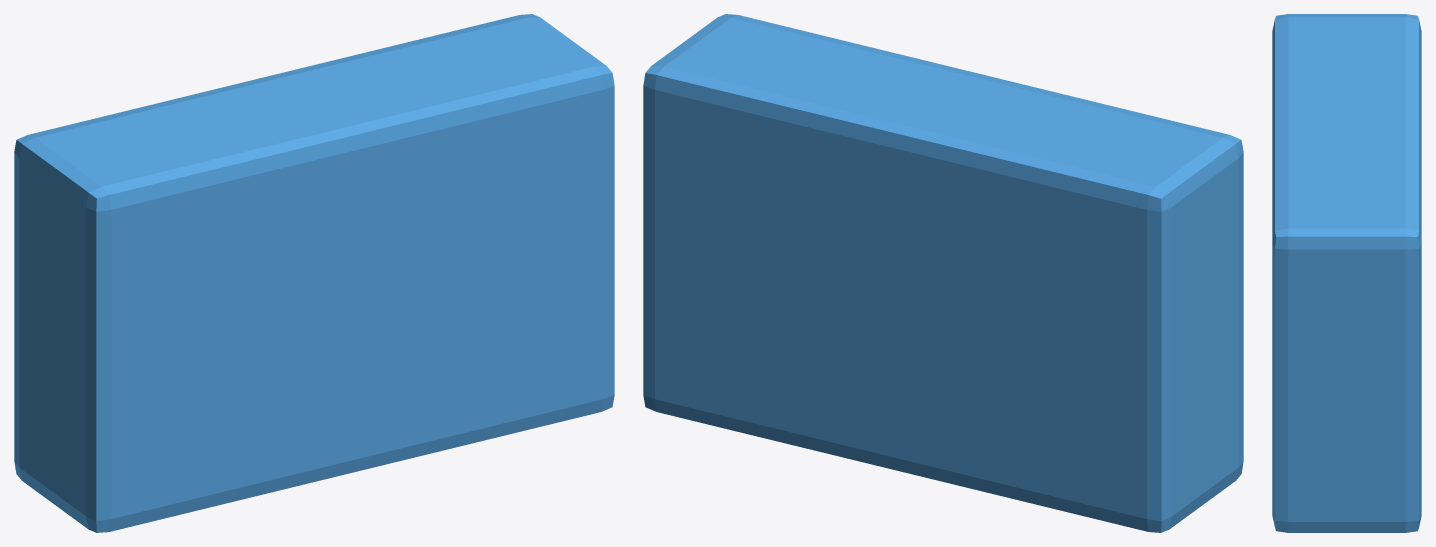
The model's file is waist__belt_buckle__base.glb.
3 renders of one model, left to right at view 1: azimuth 30°, elevation 25°; view 2: azimuth 150°, elevation 25°; view 3: azimuth 270°, elevation 25°, orthographic. The views are drawn at different scales.
Parts seen in each view (by area): view 1: armor_waist__belt_buckle__base_v001; view 2: armor_waist__belt_buckle__base_v001; view 3: armor_waist__belt_buckle__base_v001.
Boxes of the visible parts, bbox=[...] form: armor_waist__belt_buckle__base_v001: bbox=[14, 14, 614, 532]; armor_waist__belt_buckle__base_v001: bbox=[643, 14, 1243, 532]; armor_waist__belt_buckle__base_v001: bbox=[1272, 14, 1421, 532].
Bounding box in the file's own units: 0.0992 × 0.062 × 0.0279.
